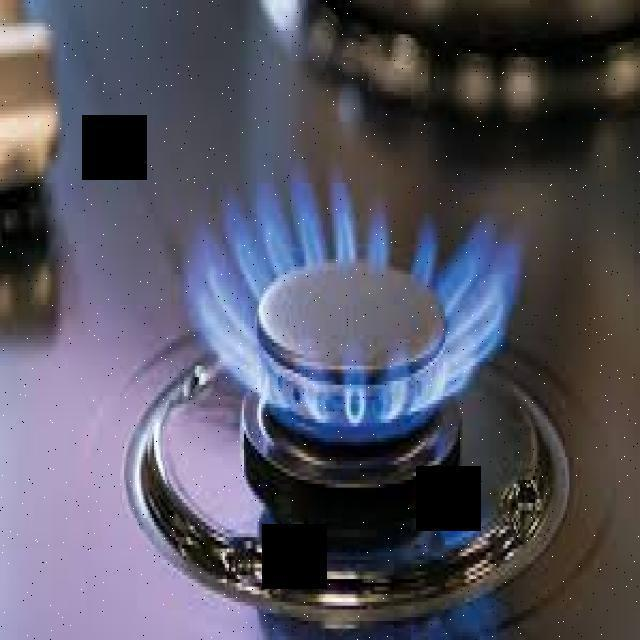Flame: (170, 172, 532, 442)
